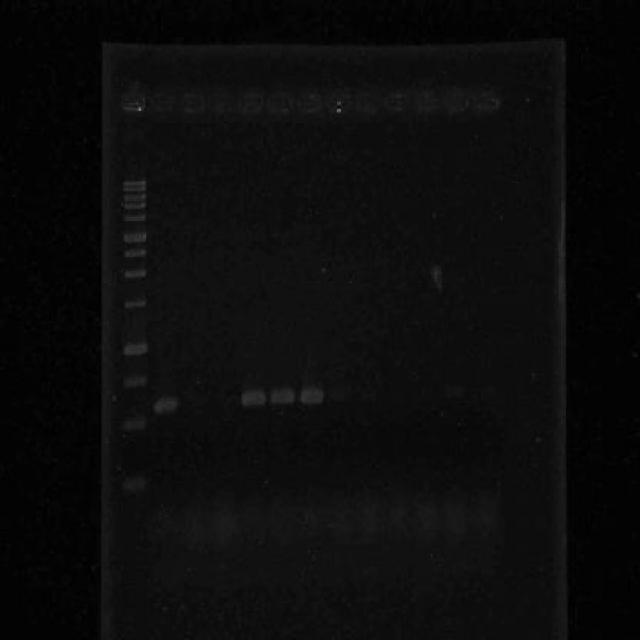B: (238, 384, 268, 410), (268, 382, 296, 408), (298, 382, 326, 407), (151, 394, 180, 417)
L: (114, 72, 506, 126)
M: (115, 171, 156, 504)
P: (119, 473, 148, 496), (120, 413, 148, 432), (122, 340, 150, 358), (122, 373, 148, 389), (121, 228, 148, 243), (122, 266, 148, 280), (124, 246, 148, 260), (122, 298, 147, 310), (122, 213, 147, 222), (122, 201, 146, 210), (122, 192, 147, 200), (122, 178, 147, 186), (122, 185, 146, 192)
Pc: (379, 85, 410, 118), (412, 86, 441, 119), (292, 85, 321, 118), (442, 84, 470, 118), (119, 81, 147, 114), (206, 87, 237, 116), (147, 85, 175, 116), (178, 85, 206, 116), (237, 86, 266, 115), (351, 87, 378, 118), (264, 88, 290, 120), (472, 85, 500, 114), (324, 89, 350, 118)
